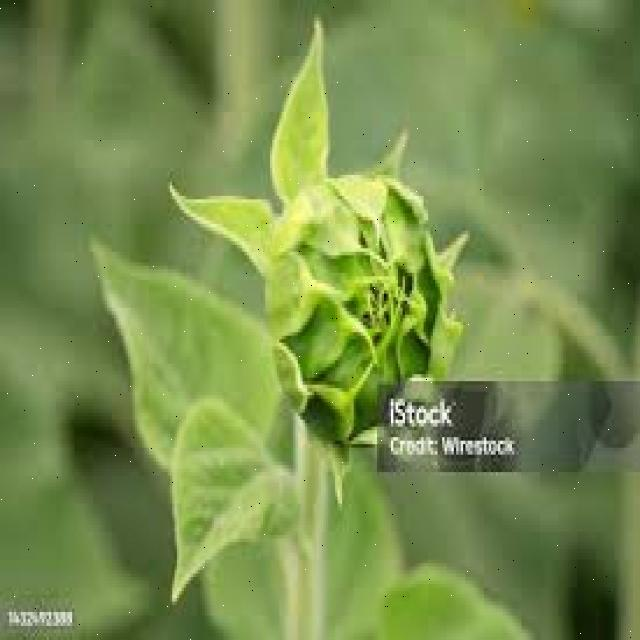Unbloomed: (165, 18, 470, 462)
